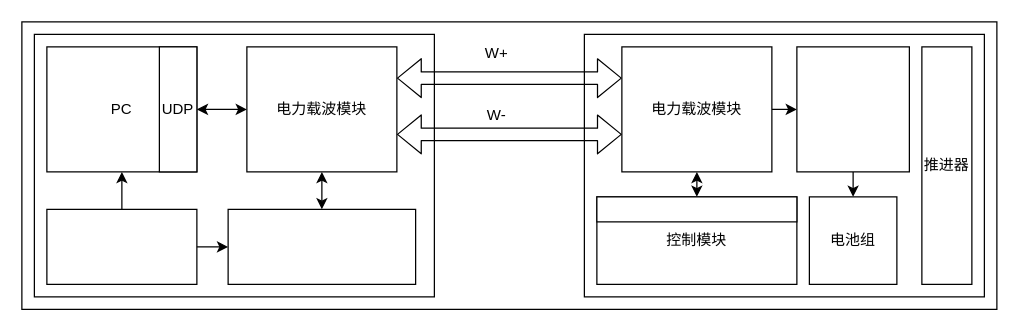
Some shapes in this 1019 by 331 pixel diagram are drawn without their labels. Each missing label, with the box of its shape:
220V-24V开关电源: (227, 208, 416, 284)
24V转12V DC-DC: (796, 46, 909, 172)
RTSP: (596, 196, 797, 222)
供电: (46, 208, 197, 284)
